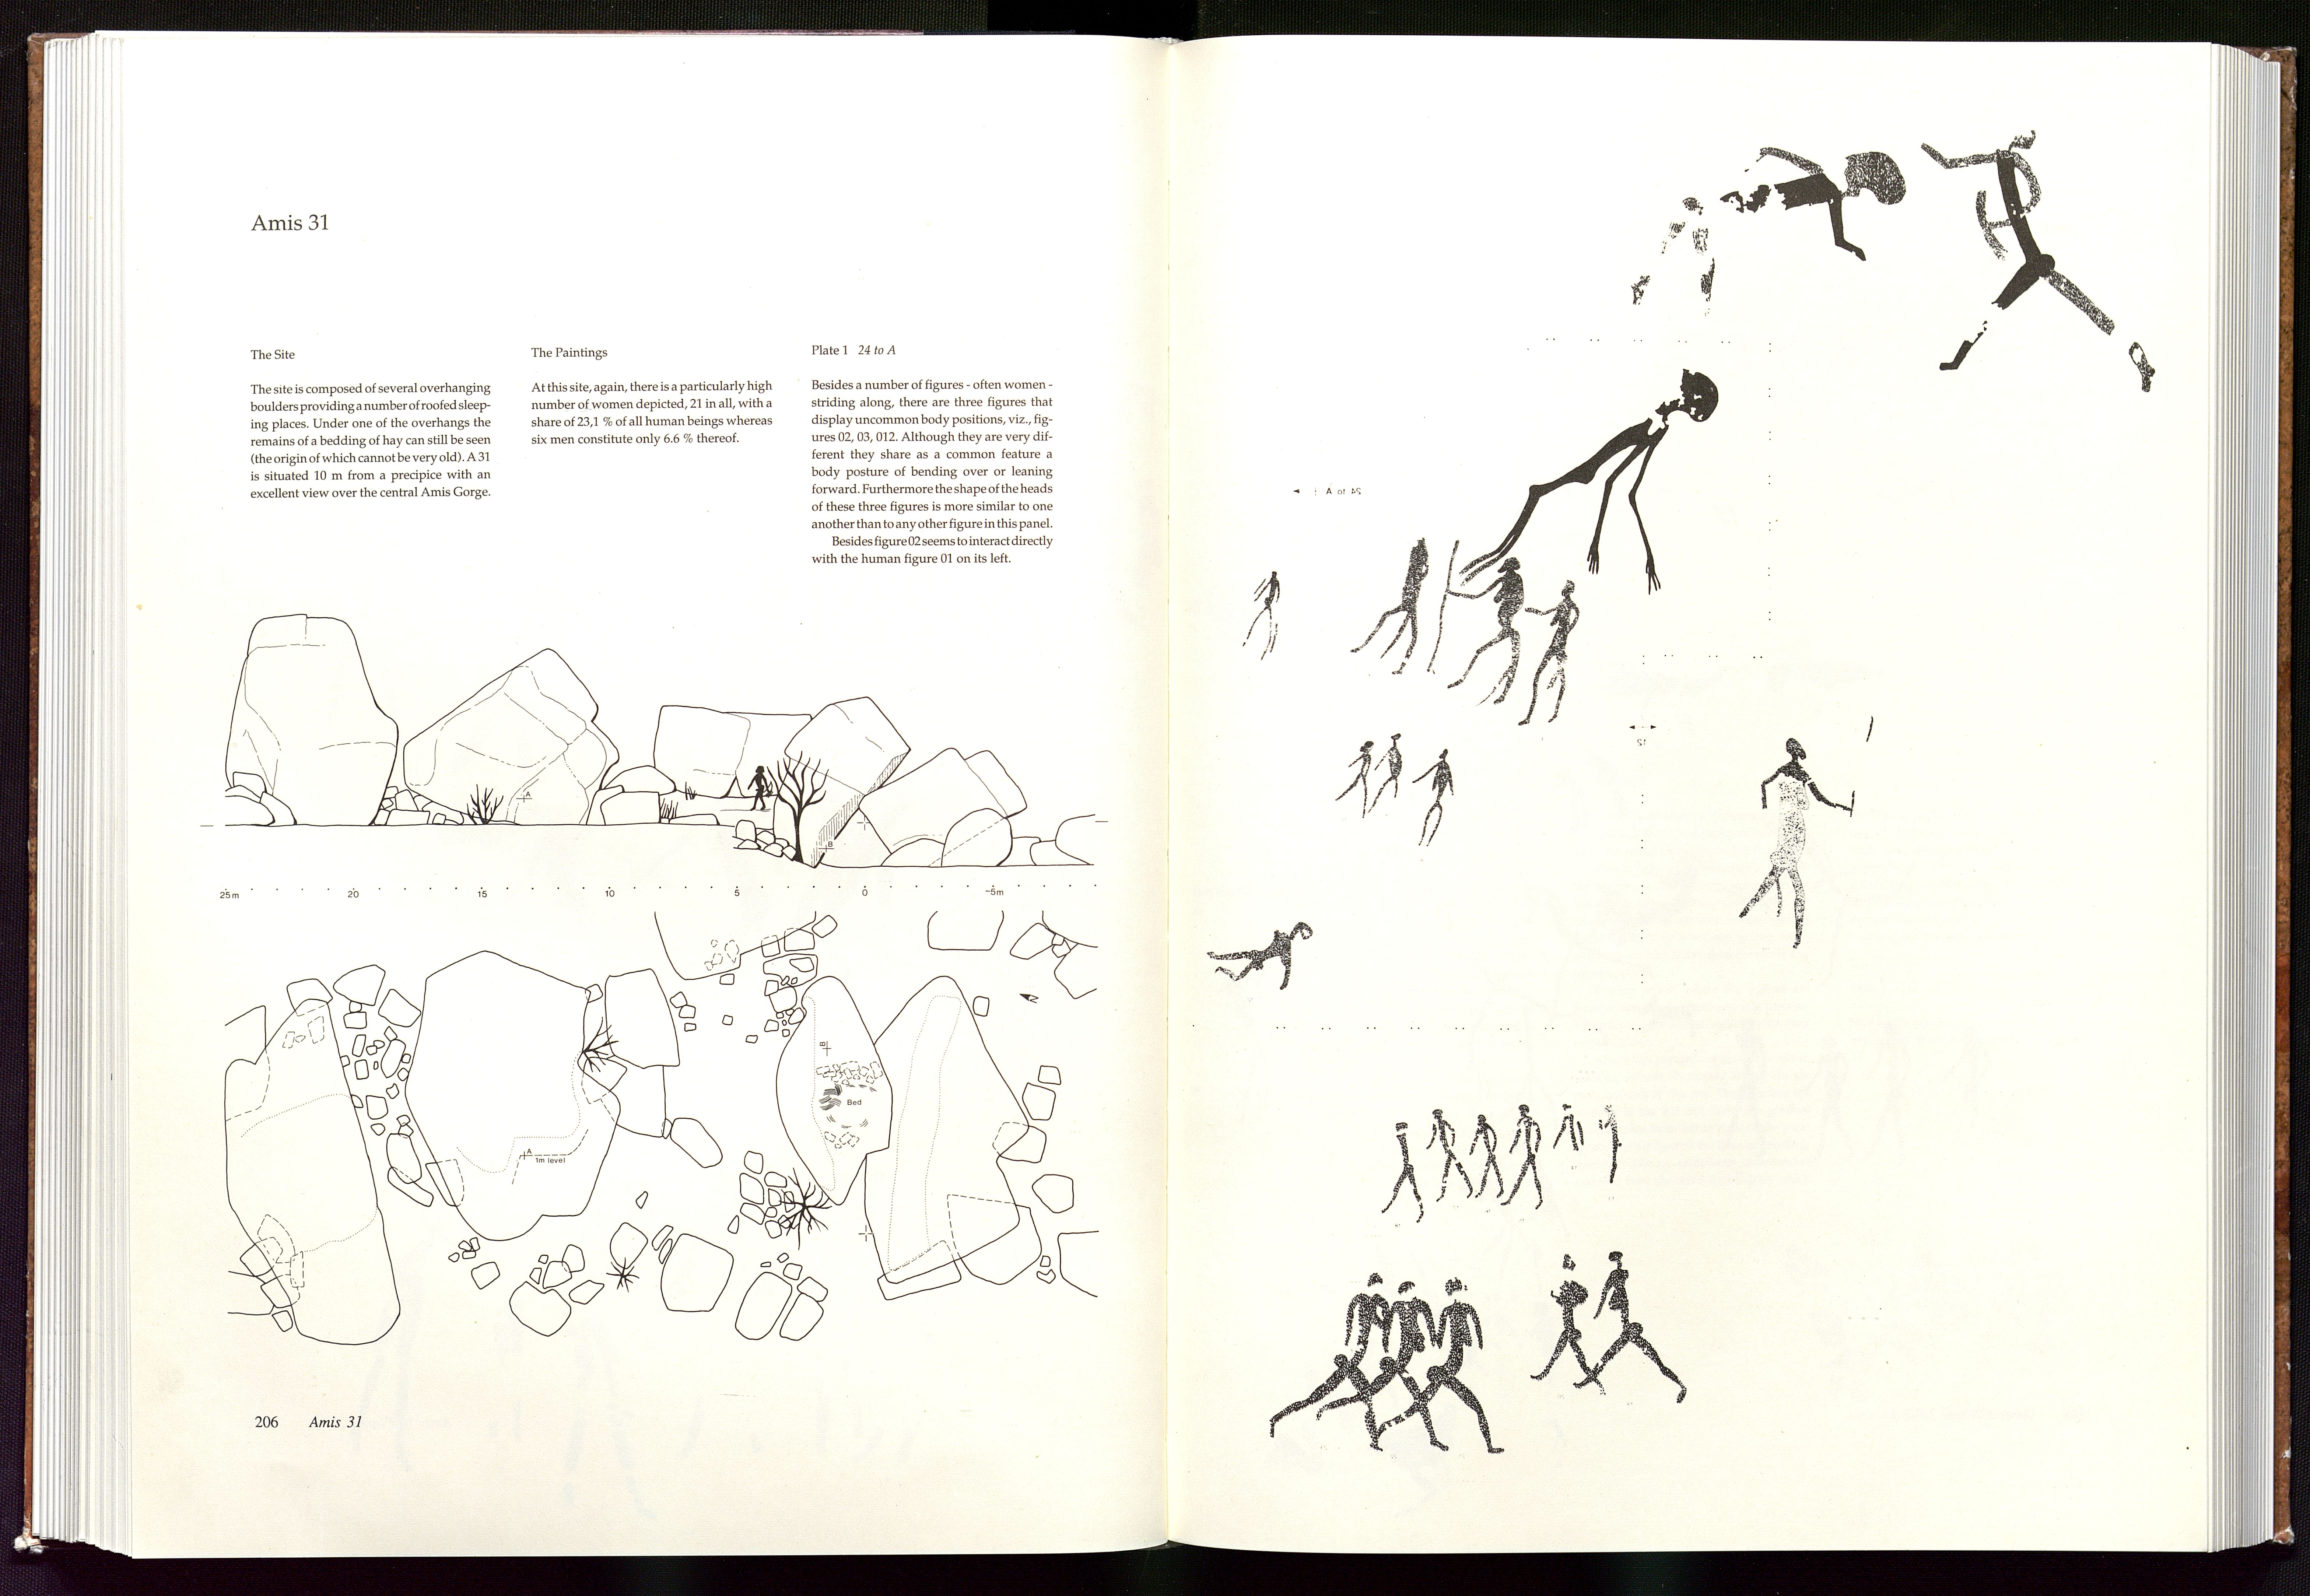human: (1915, 112, 2160, 408), (1465, 364, 1733, 593), (1608, 129, 1910, 330), (1357, 1278, 1514, 1457), (1741, 723, 1861, 954), (1311, 1280, 1458, 1457), (1259, 1266, 1384, 1452), (1578, 1248, 1694, 1416), (1335, 536, 1433, 676), (1517, 573, 1588, 728), (1534, 1248, 1603, 1403), (1207, 924, 1318, 993), (1411, 1106, 1475, 1217), (1377, 1123, 1431, 1239), (1411, 738, 1458, 863), (1544, 1094, 1593, 1207), (1357, 718, 1402, 831), (1588, 1096, 1640, 1192), (1234, 566, 1286, 657), (1510, 1106, 1549, 1217), (1463, 1099, 1505, 1199), (1335, 738, 1372, 828)
